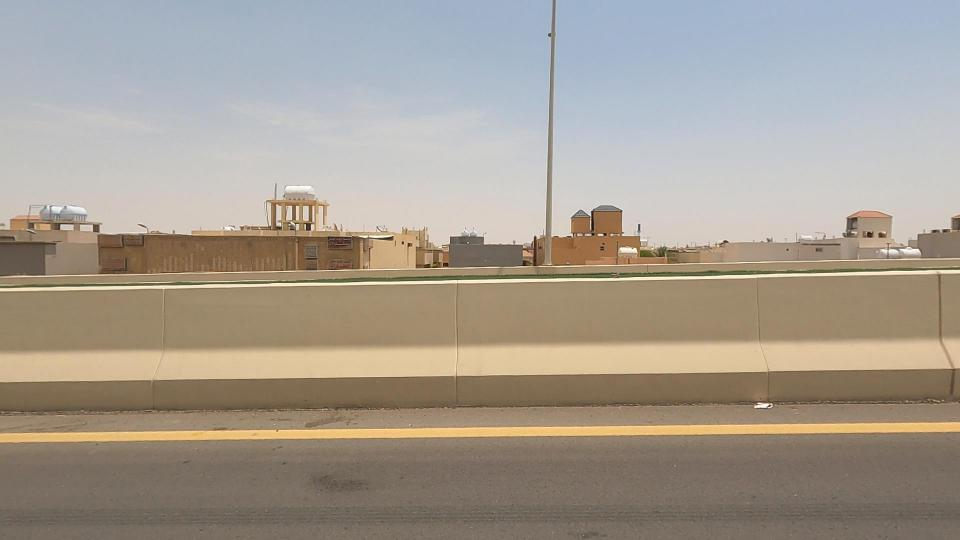GARBAGE: (716, 374, 808, 441)
